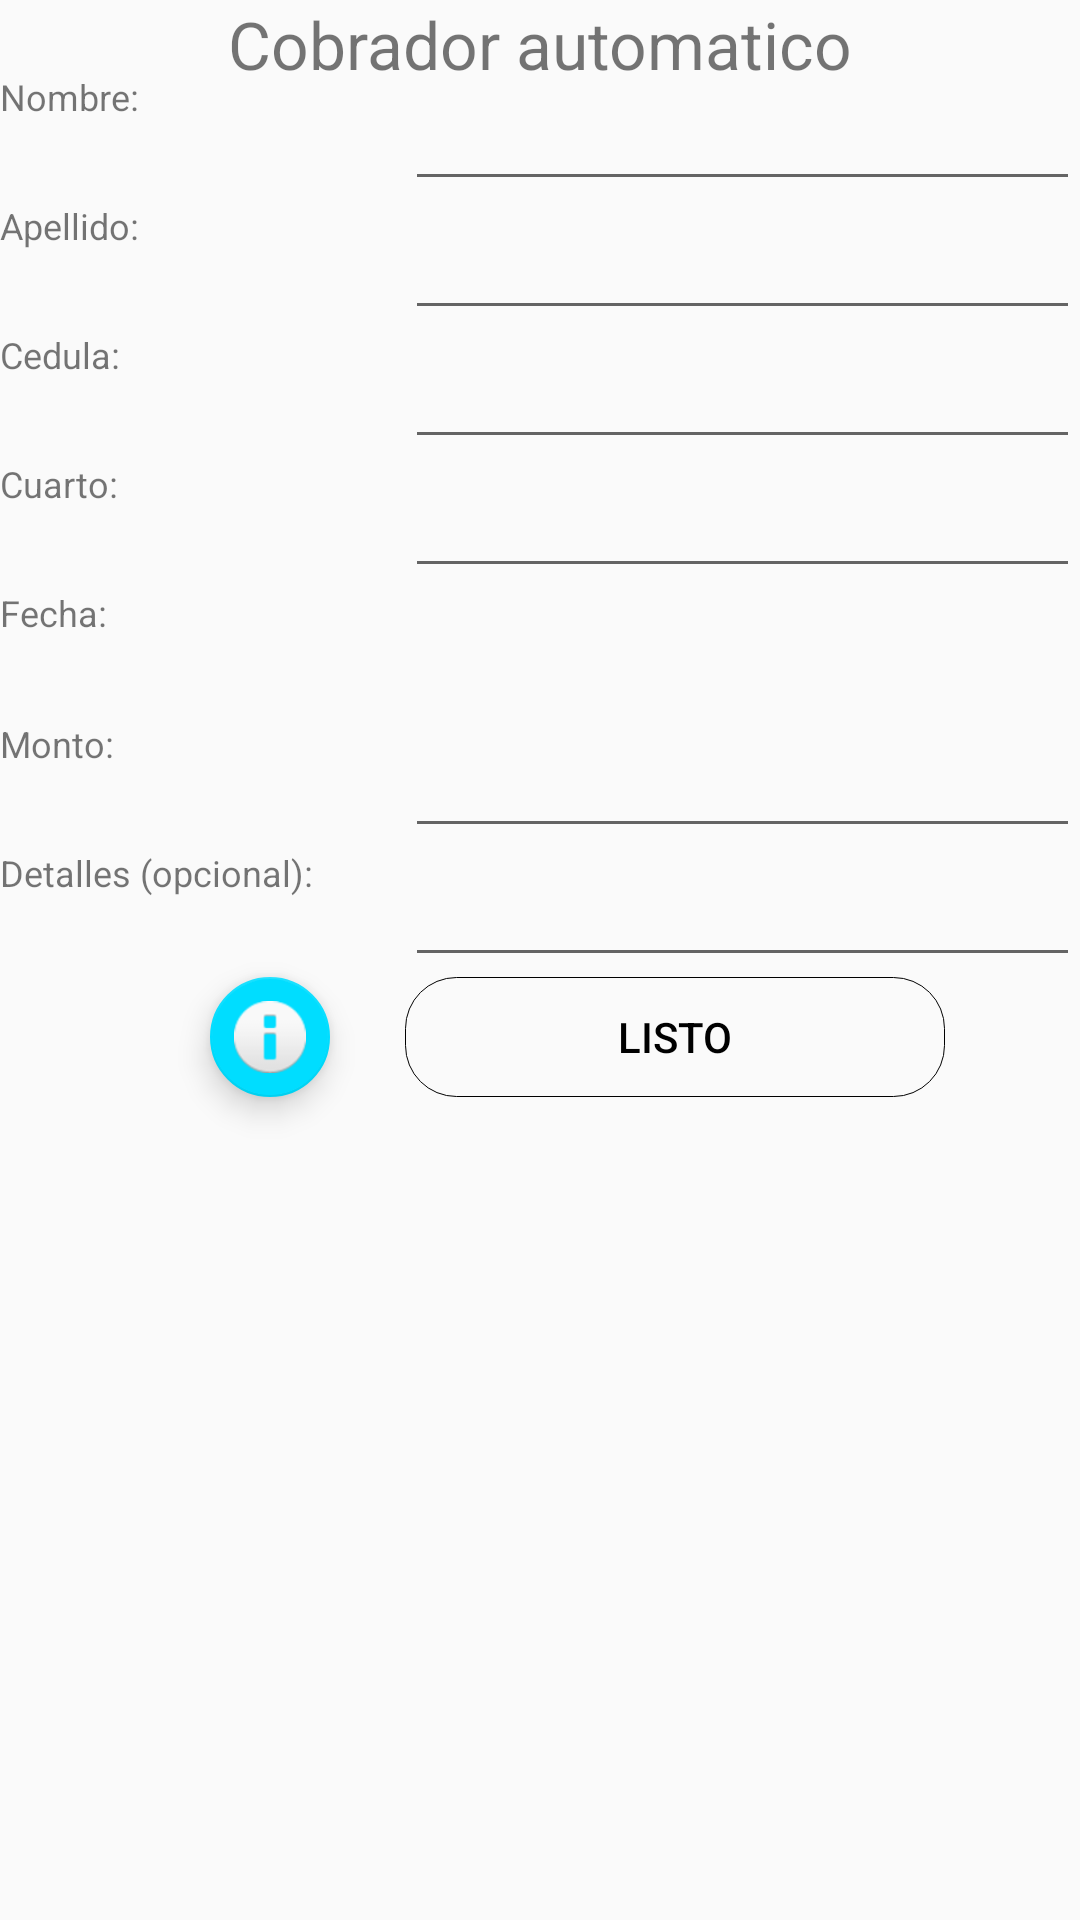

Screen size 1080 × 1920. Icon name, then its center in pixels as (x,y):
info: (270,1037)
